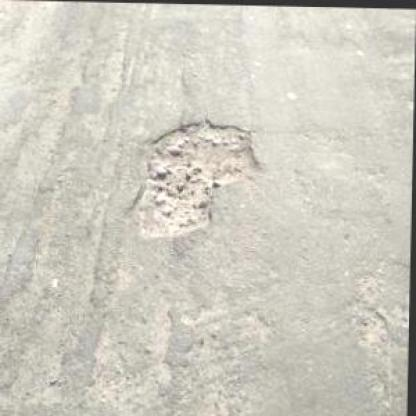pothole: (126, 115, 265, 244)
